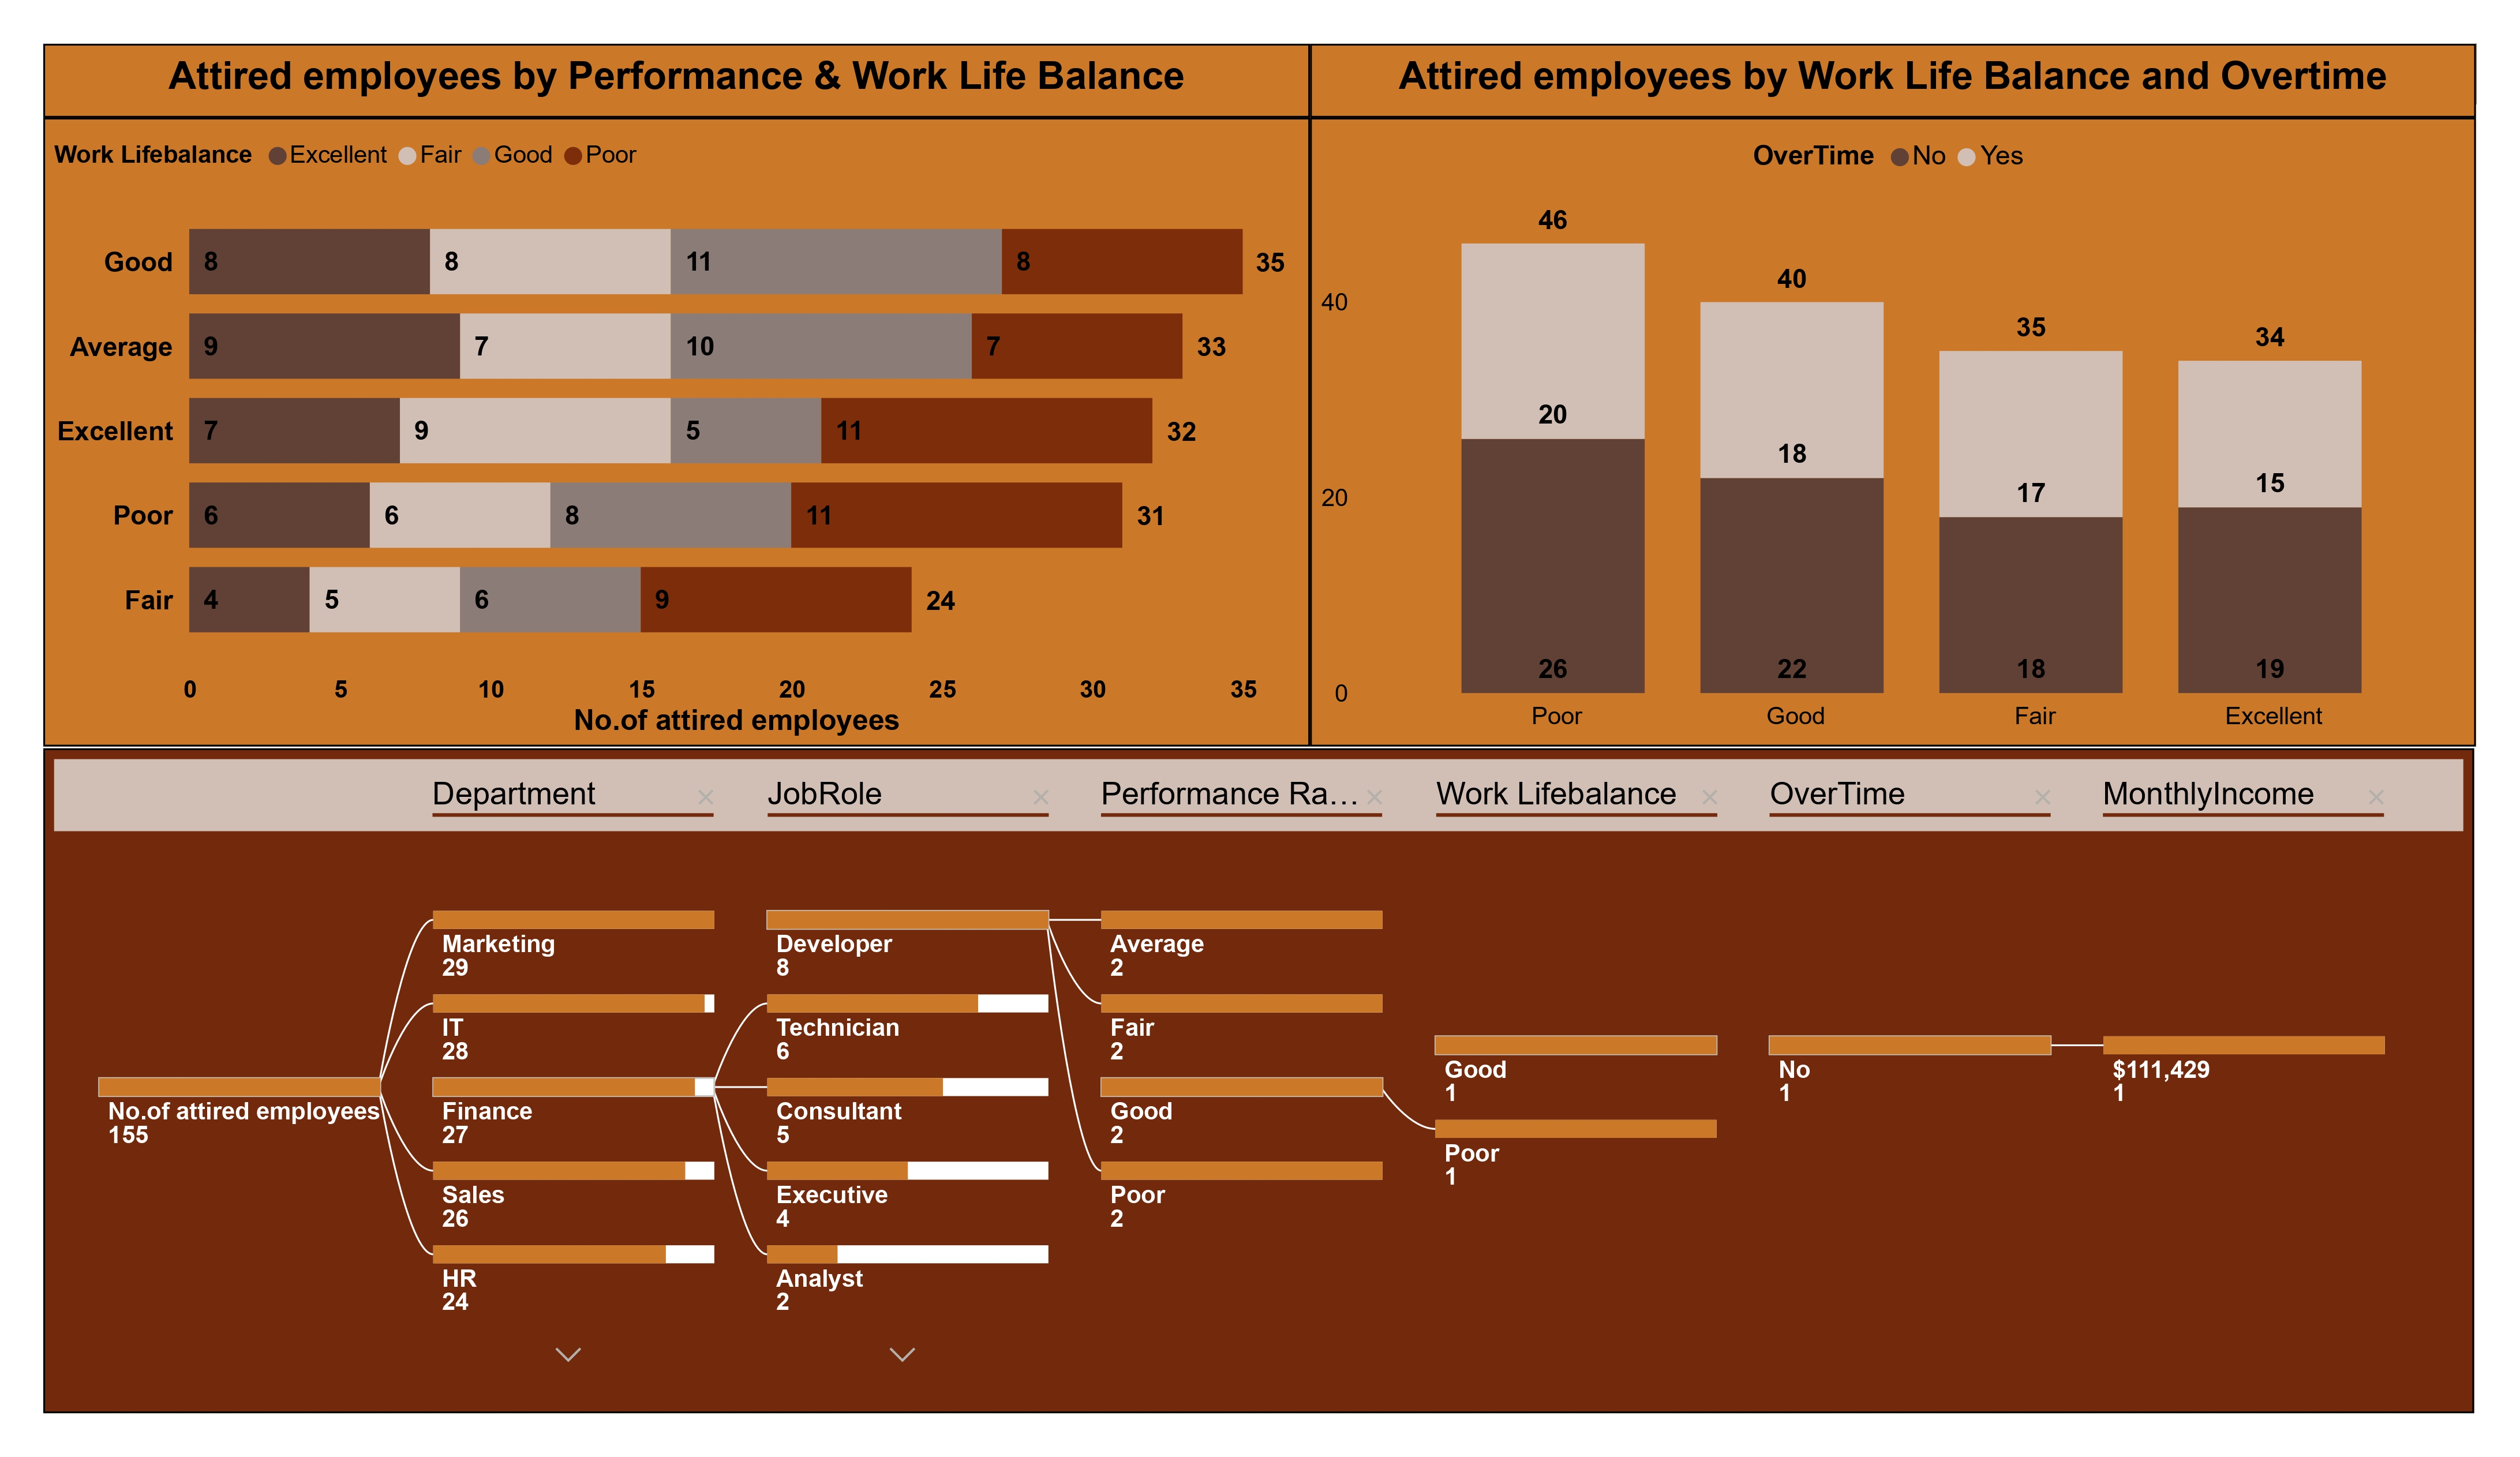

This screenshot's page, from the dashboard's own definition file:
{"tool":"powerbi","page":{"name":"Attired employees","canvas":[1350,760],"ordinal":1},"visuals":[{"type":"barChart","title":"Attired employees by Performance Rating and Work Lifebalance","fields":{"Category":["Attrited Employees.Performance Rating"],"Y":["Attrited Employees.No.of attired employees"],"Series":["Attrited Employees.Work Lifebalance"]},"box":[0,41,703.1,349.3],"z":0},{"type":"columnChart","title":"Atttired employees by Work Lifebalance and OverTime","fields":{"Y":["Attrited Employees.No.of attired employees"],"Category":["Attrited Employees.Work Lifebalance"],"Series":["Attrited Employees.OverTime"]},"box":[703.1,41,646.9,349.3],"z":1000},{"type":"decompositionTreeVisual","fields":{"Analyze":["Attrited Employees.No.of attired employees"],"ExplainBy":["Attrited Employees.Department","Attrited Employees.JobRole","Attrited Employees.Performance Rating","Attrited Employees.Work Lifebalance","Attrited Employees.OverTime","Attrited Employees.MonthlyIncome"]},"box":[0,390.9,1349.4,369.1],"z":2000},{"type":"textbox","box":[703.1,0,646.9,41],"z":3000},{"type":"textbox","box":[0,0,703.1,41],"z":4000}]}

Visuals, with their boxes on the page's 1350x760 design canvas (x1, y1, x2, y2). These are canvas units, not pixel positions in the 2520x1457 screenshot, which may show the page scaled, cropped or inside an application window:
"Attired employees by Performance Rating and Work Lifebalance" barChart: x1=0 y1=41 x2=703 y2=390
"Atttired employees by Work Lifebalance and OverTime" columnChart: x1=703 y1=41 x2=1350 y2=390
decompositionTreeVisual - Attrited Employees.No.of attired employees x Attrited Employees.Department: x1=0 y1=391 x2=1349 y2=760
textbox: x1=703 y1=0 x2=1350 y2=41
textbox: x1=0 y1=0 x2=703 y2=41
